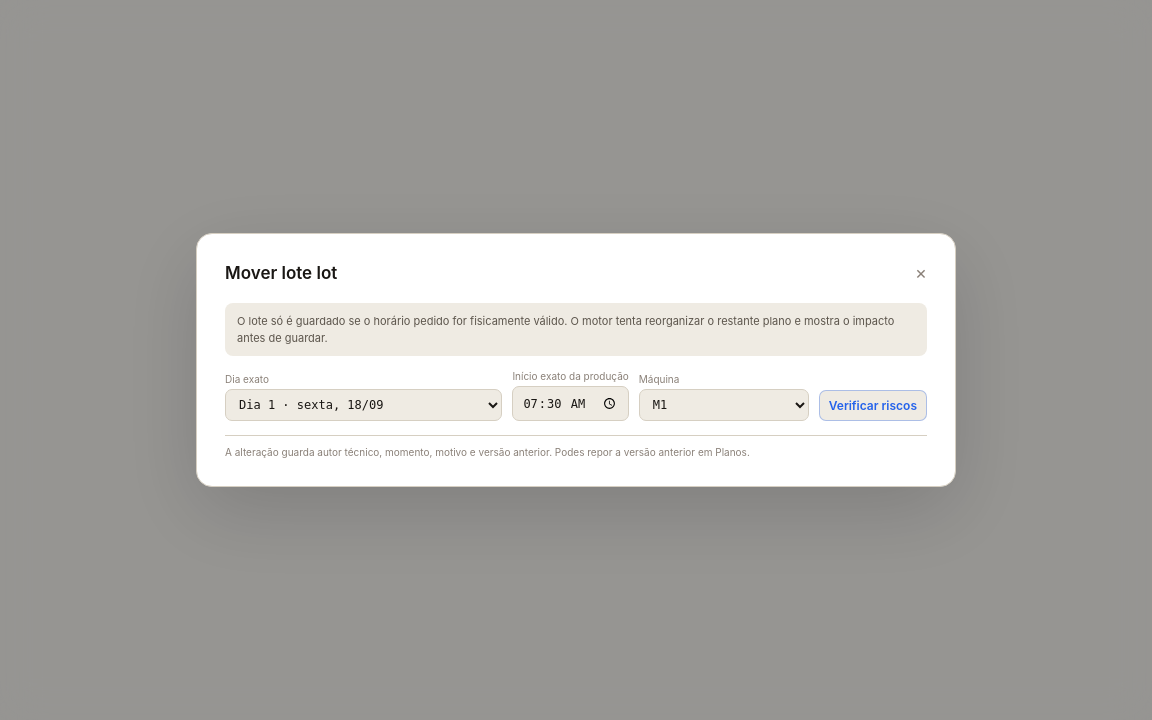
it: does not discard a valid candidate on an approval refusal
Click the button "Verificar riscos" at x=873, y=405, box [819,390,927,421]
(page scrolled)
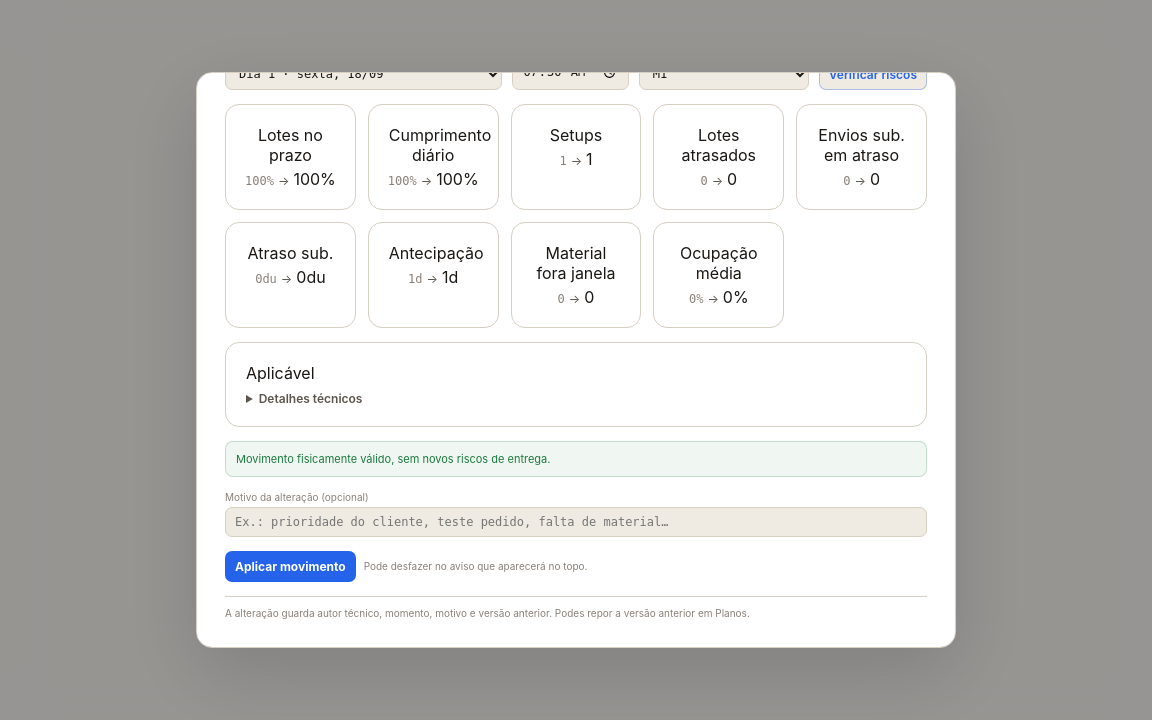
Click the button "Aplicar movimento" at x=290, y=566, box [225,551,356,582]
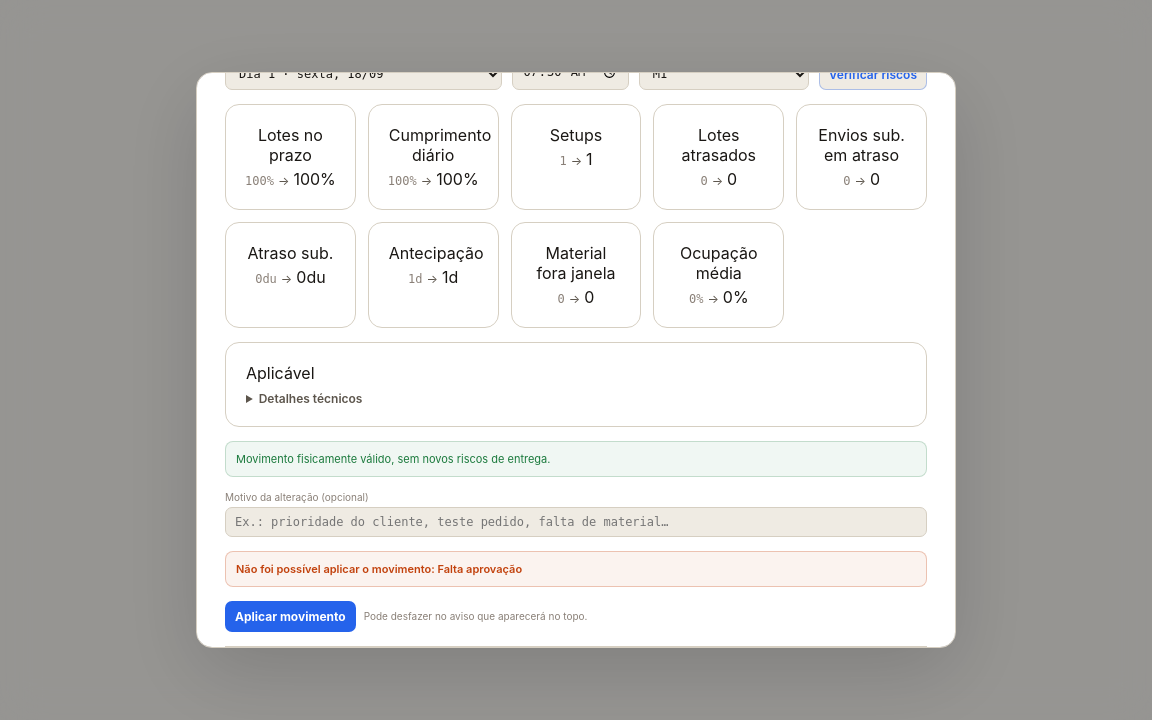
Now the button "Aplicar movimento" is shown, box [225,601,356,632]
Now the text "Não foi possível aplicar o movimento: Falta aprovação" is shown, box [225,551,927,587]
